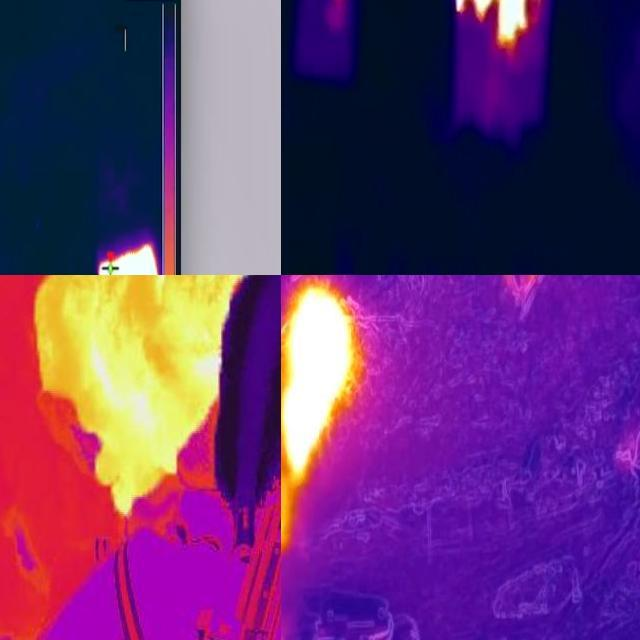fire: (33, 276, 235, 515), (282, 281, 354, 466), (455, 1, 533, 55), (97, 244, 161, 276)
